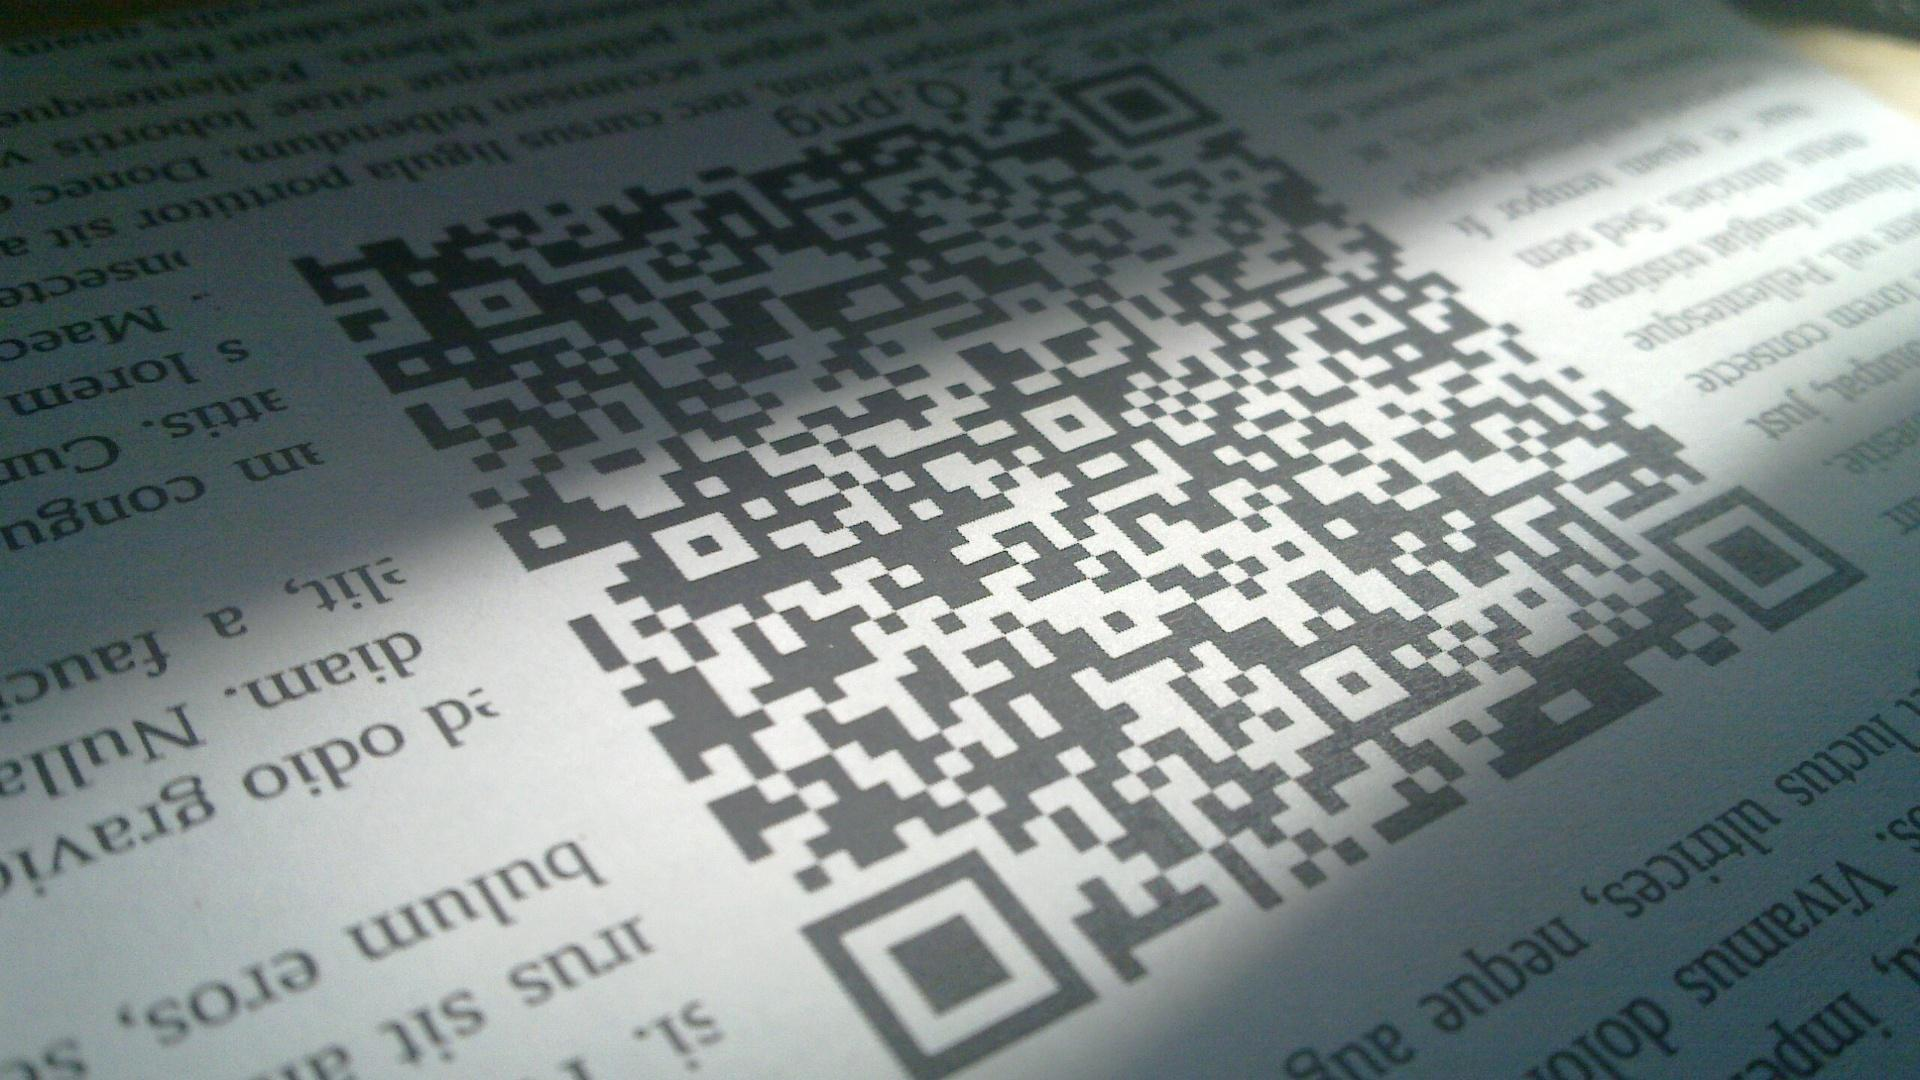Finder pattern: (787, 868, 1101, 1071), (1629, 483, 1873, 638), (1050, 65, 1220, 148)
